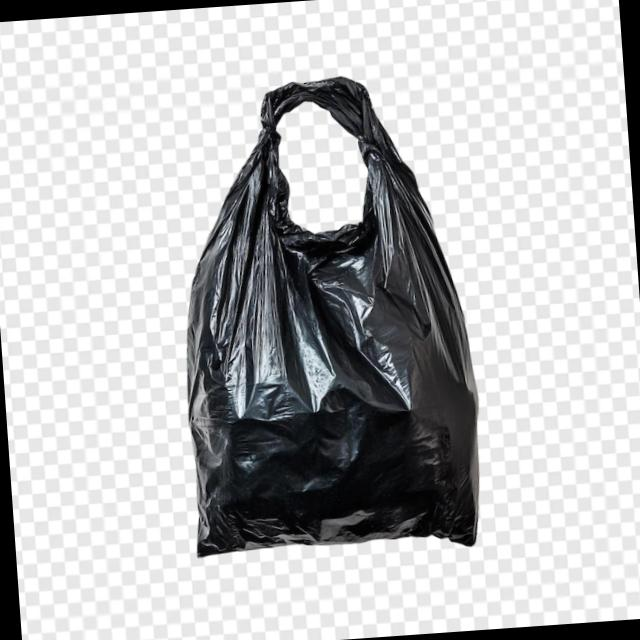plastic_bag: (163, 57, 498, 570)
